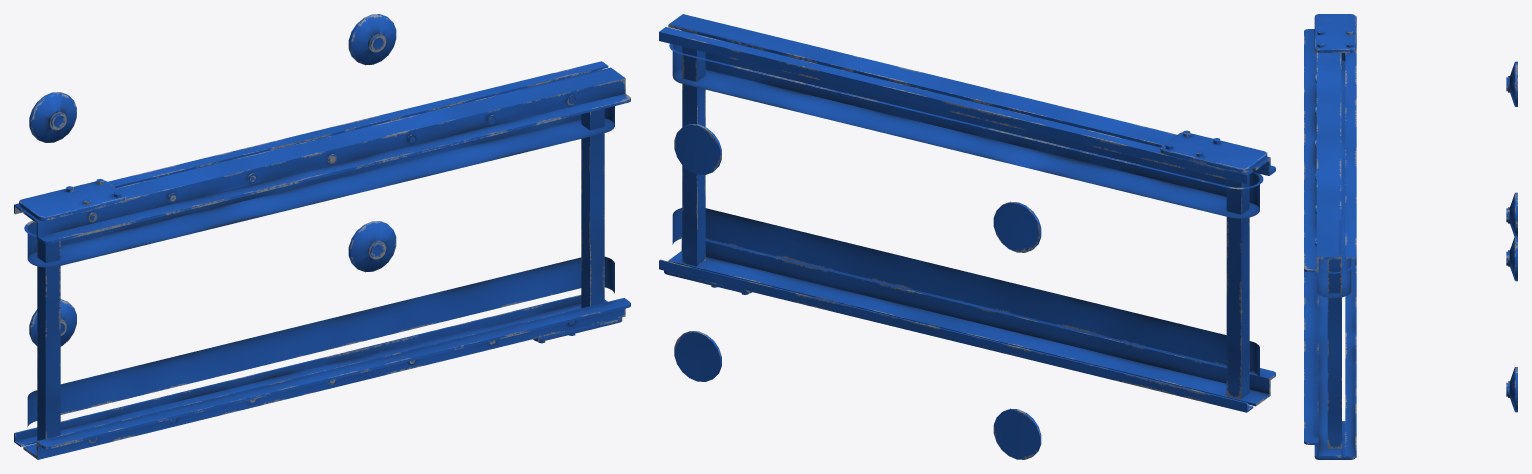
File: conveyor_frame.glb
3 views of the same model, side by side, from view 1: azimuth 30°, elevation 25°; view 2: azimuth 150°, elevation 25°; view 3: azimuth 270°, elevation 25° (orthographic). The views are drawn at different scales.
Visible parts, largest first — view 1: frame; view 2: frame; view 3: frame.
Part boxes in pixels (left/top/right/bottom): frame: left=14, top=14, right=630, bottom=459; frame: left=659, top=14, right=1275, bottom=459; frame: left=1304, top=14, right=1517, bottom=459.
Bounding box in the file's own units: 2.1 × 0.8751 × 0.7873.
Materials: 1 (1 with a texture image).
